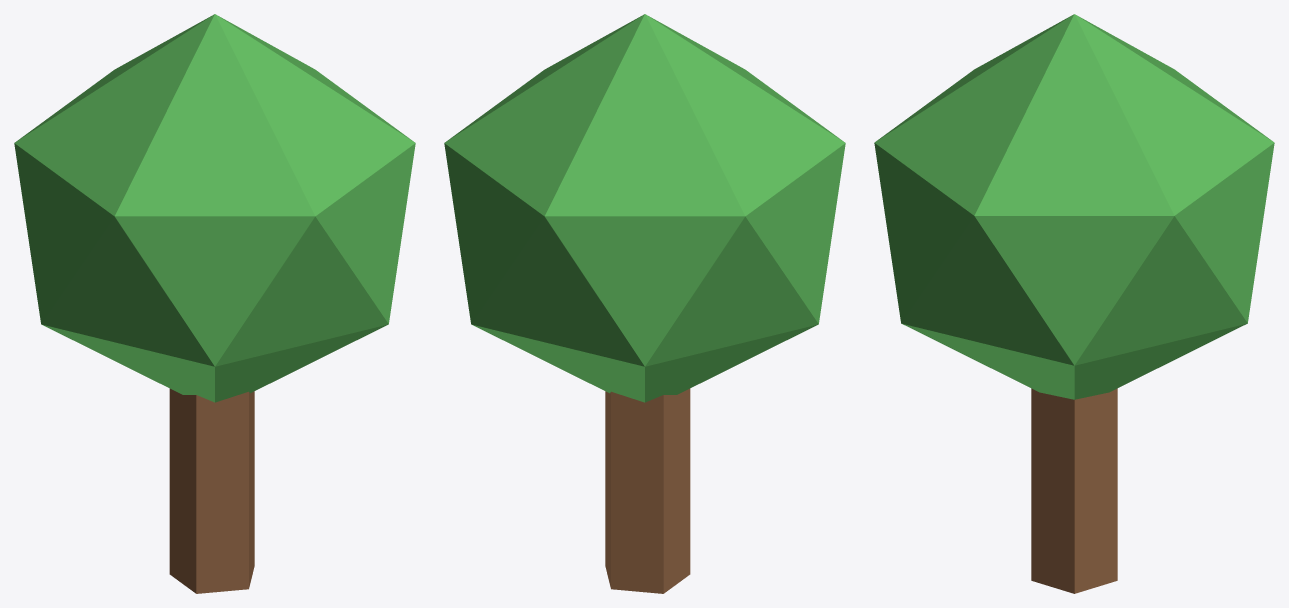
File: tree_round.glb
3 renders of one model, left to right at view 1: azimuth 30°, elevation 25°; view 2: azimuth 150°, elevation 25°; view 3: azimuth 270°, elevation 25°, orthographic.
Parts seen in each view (by area): view 1: tree_round; view 2: tree_round; view 3: tree_round.
Part boxes in pixels (box(x1,y1,x2,y2)): tree_round: box(14, 14, 415, 593); tree_round: box(444, 14, 845, 593); tree_round: box(874, 14, 1274, 593).
Size of the model in its own units: 0.264 by 0.408 by 0.264.
